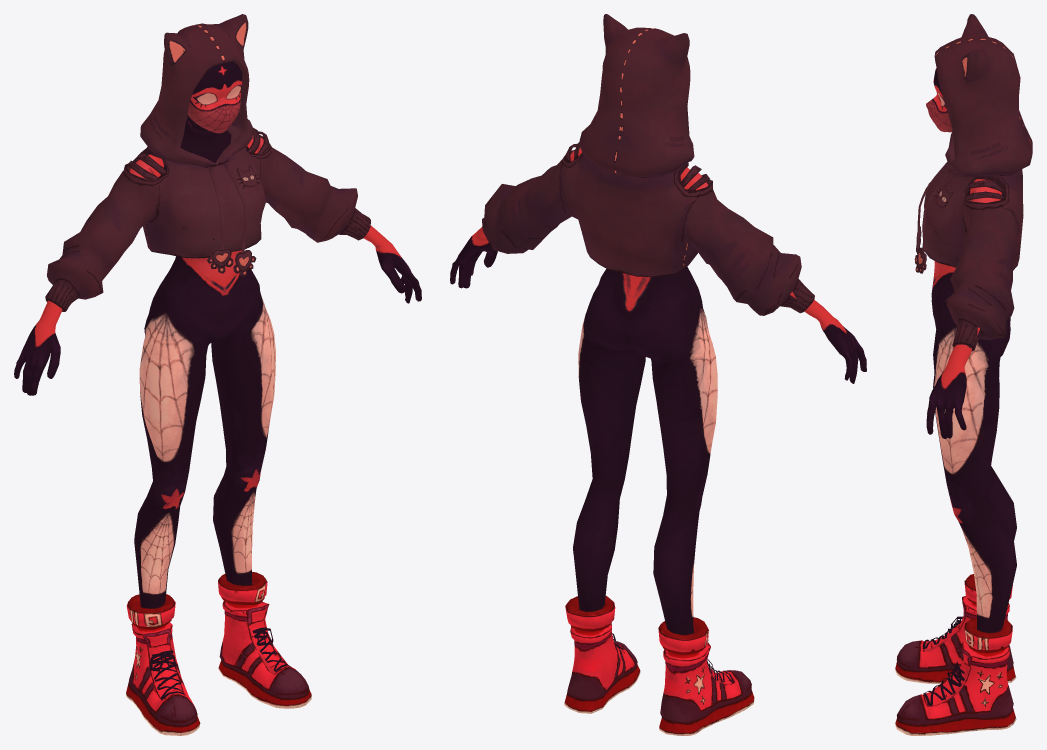
File: spidercat.glb
3 renders of one model, left to right at view 1: azimuth 30°, elevation 25°; view 2: azimuth 150°, elevation 25°; view 3: azimuth 270°, elevation 25°, orthographic. The views are drawn at different scales.
Parts seen in each view (by area): view 1: Object_4, Object_3; view 2: Object_4, Object_3; view 3: Object_4, Object_3.
Boxes of the visible parts, x1=… form: Object_4: x1=14, y1=61, x2=421, y2=735; Object_3: x1=45, y1=14, x2=370, y2=311; Object_4: x1=450, y1=148, x2=866, y2=735; Object_3: x1=482, y1=14, x2=814, y2=315; Object_4: x1=895, y1=68, x2=1016, y2=735; Object_3: x1=914, y1=14, x2=1032, y2=351.
Bounding box in the file's own units: 5.99 × 9.78 × 1.82.
2 materials, 2 textured.
